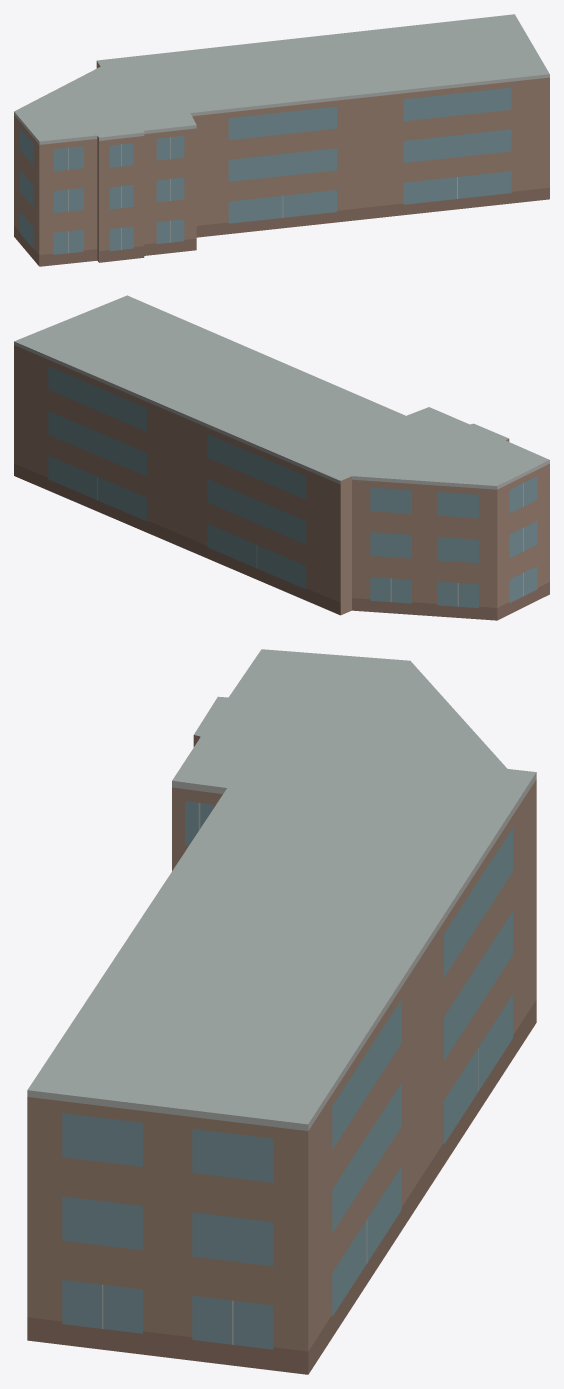
File: survey-upis-32990958.glb
3 renders of one model, top to bottom at view 1: azimuth 30°, elevation 25°; view 2: azimuth 150°, elevation 25°; view 3: azimuth 270°, elevation 25°, orthographic. The views are drawn at different scales.
Parts seen in each view (by area): view 1: survey-upis-32990958.tmp; view 2: survey-upis-32990958.tmp; view 3: survey-upis-32990958.tmp.
Boxes of the visible parts, <box> form: survey-upis-32990958.tmp: <box>14,14,549,266</box>; survey-upis-32990958.tmp: <box>14,295,549,620</box>; survey-upis-32990958.tmp: <box>27,649,536,1374</box>.
Size of the model in its own units: 37.27 by 9.15 by 16.89.
